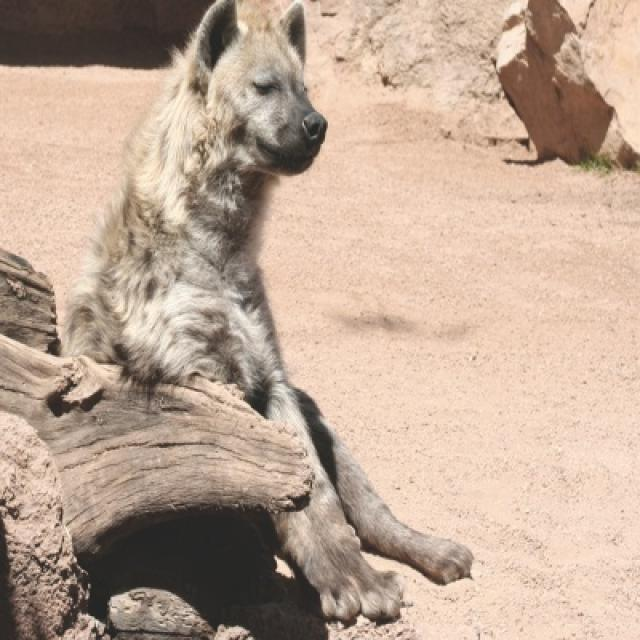hyena: (56, 0, 472, 638)
